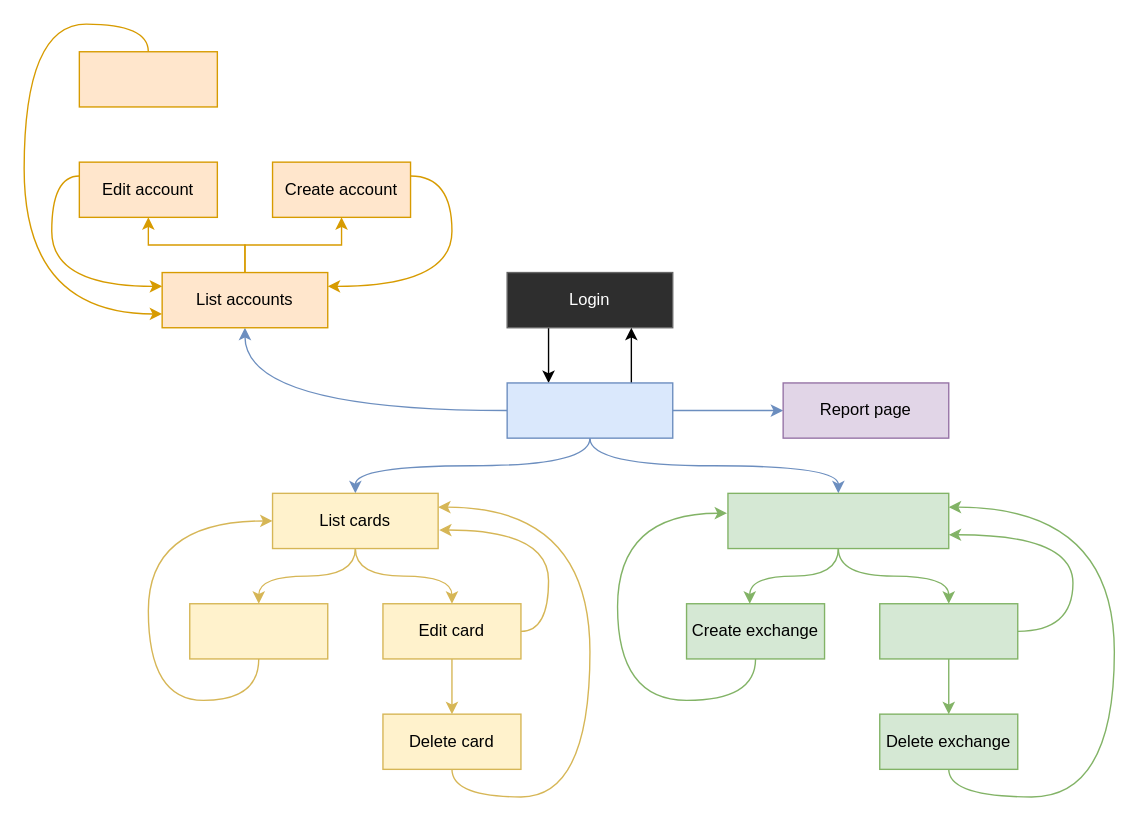
Some shapes in this 1139 by 821 pixel diagram are drawn without their labels. The shapes that lost their labels are listed below. From the top down, each one's box as (x1, y1, x2, y2) in pixels, then its label:
(78, 50, 217, 107): Delete account
(506, 382, 673, 438): Home page
(727, 492, 949, 549): List exchanges
(188, 602, 328, 659): Create card
(878, 602, 1018, 659): Edit exchange
